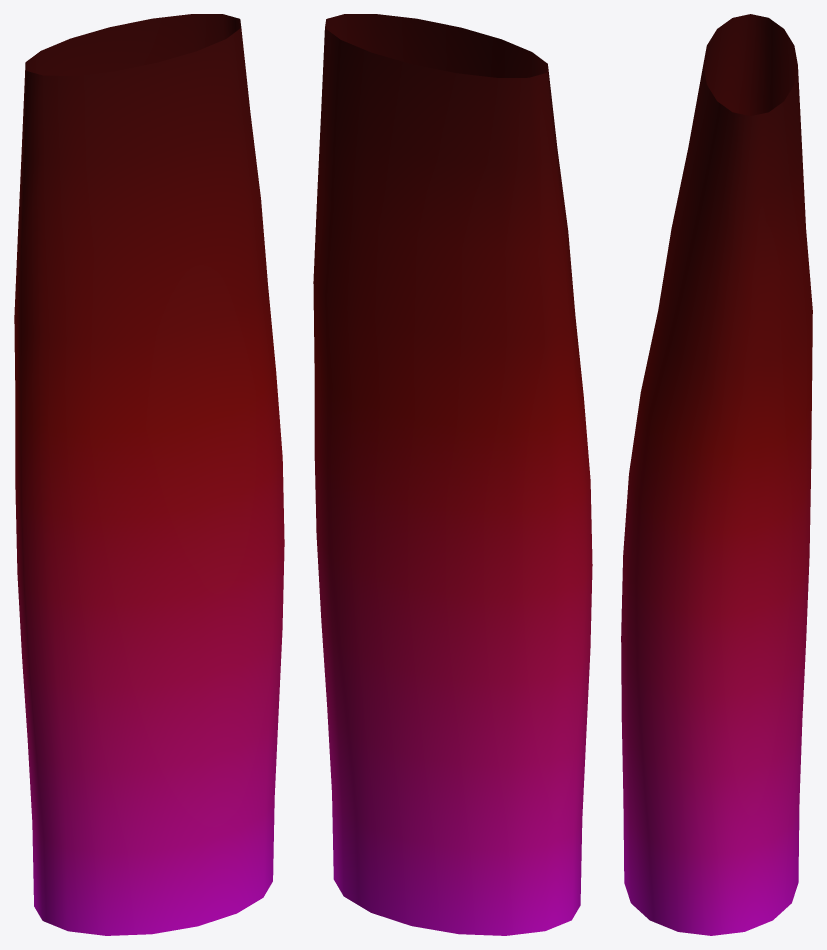
Rendered from Waterfall2b.fbx.
The picture shows the model from 3 angles, left to right: view 1: azimuth 30°, elevation 25°; view 2: azimuth 150°, elevation 25°; view 3: azimuth 270°, elevation 25°; orthographic projection. The views are drawn at different scales.
Visible parts, largest first — view 1: pCylinder1; view 2: pCylinder1; view 3: pCylinder1.
Part boxes in pixels (<box>): pCylinder1: <box>14,14,284,935</box>; pCylinder1: <box>313,14,592,935</box>; pCylinder1: <box>621,14,812,935</box>.
Bounding box in the file's own units: 5665 × 18000 × 3825.
